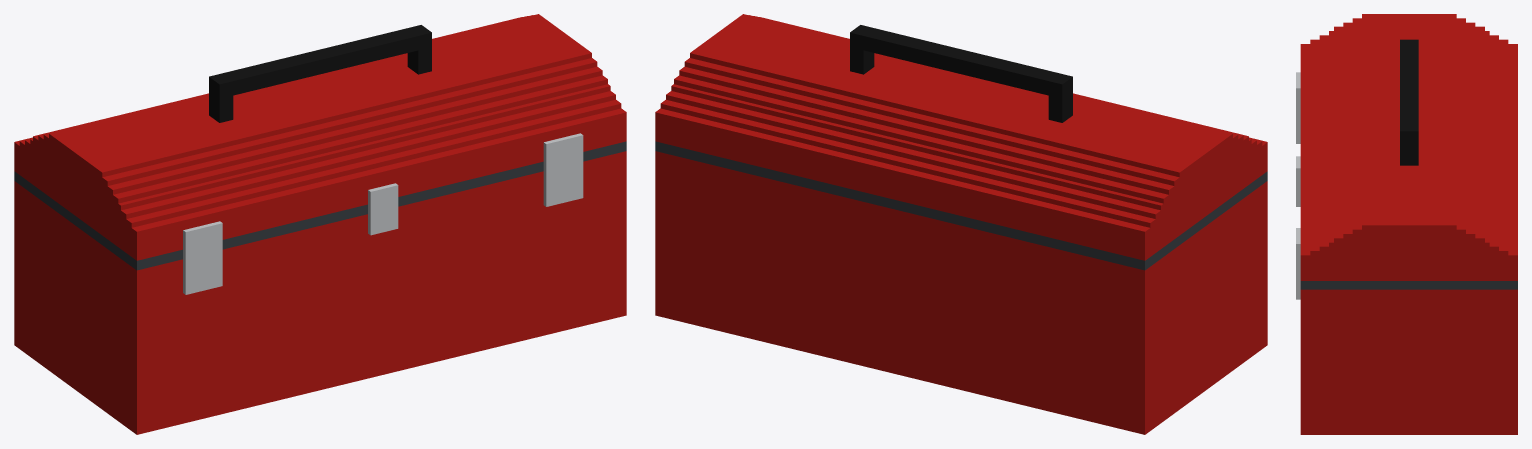
Rendered from toolbox_empty.glb.
The picture shows the model from 3 angles, left to right: view 1: azimuth 30°, elevation 25°; view 2: azimuth 150°, elevation 25°; view 3: azimuth 270°, elevation 25°; orthographic projection. The views are drawn at different scales.
Parts seen in each view (by area): view 1: toolbox_empty:compound; view 2: toolbox_empty:compound; view 3: toolbox_empty:compound.
Boxes of the visible parts, left/top/right/bottom form: toolbox_empty:compound: left=14, top=14, right=626, bottom=434; toolbox_empty:compound: left=655, top=14, right=1267, bottom=434; toolbox_empty:compound: left=1296, top=14, right=1517, bottom=434.
Bounding box in the file's own units: 0.424 × 0.228 × 0.188.
